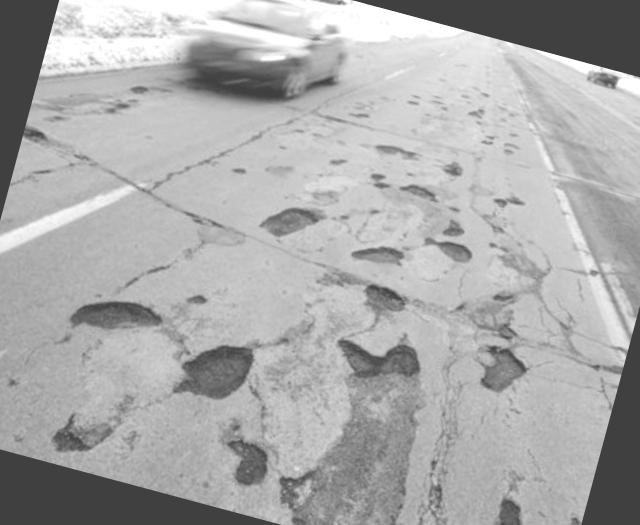Pothole: (260, 314, 449, 525), (22, 48, 160, 169), (55, 268, 184, 376), (165, 304, 292, 412), (39, 398, 152, 474), (200, 412, 291, 492), (468, 317, 546, 404), (260, 185, 340, 252), (461, 100, 534, 160), (344, 232, 428, 280), (414, 224, 488, 272), (472, 492, 573, 525), (358, 276, 420, 322), (484, 180, 544, 224), (395, 175, 454, 210), (366, 132, 424, 167), (405, 87, 456, 122), (438, 157, 472, 184), (347, 102, 372, 126)
